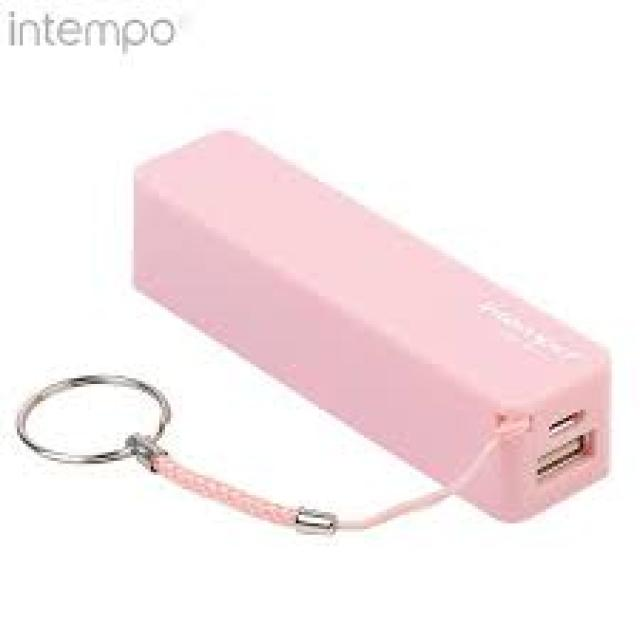portable-charger: (130, 125, 616, 523)
